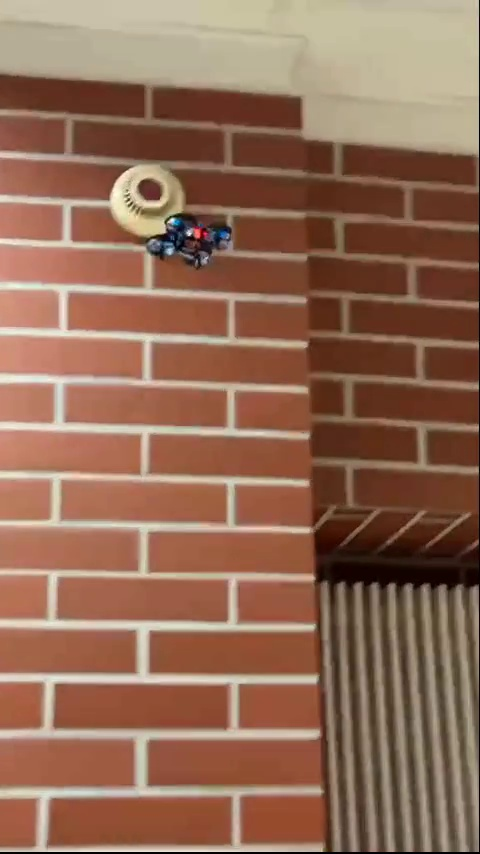drone: (146, 210, 230, 266)
